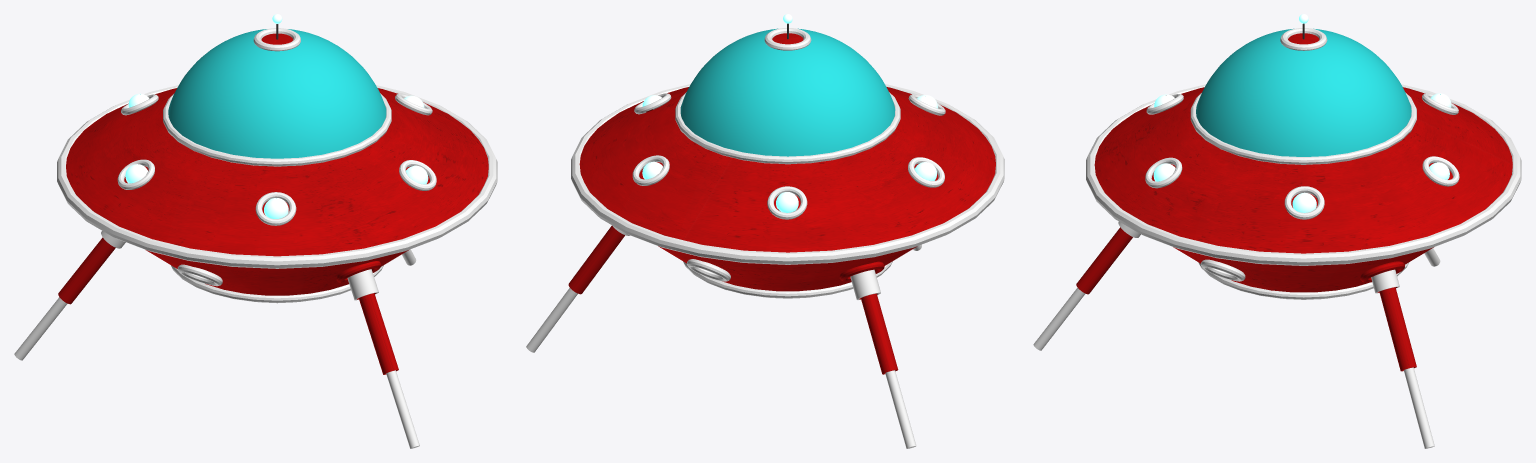
Rendered from small_spaceship.glb.
The picture shows the model from 3 angles, left to right: view 1: azimuth 30°, elevation 25°; view 2: azimuth 150°, elevation 25°; view 3: azimuth 270°, elevation 25°; orthographic projection.
Parts seen in each view (by area): view 1: Cone_0; view 2: Cone_0; view 3: Cone_0.
Part boxes in pixels (left/top/right/bottom): Cone_0: left=14, top=14, right=497, bottom=448; Cone_0: left=526, top=14, right=1004, bottom=448; Cone_0: left=1033, top=14, right=1521, bottom=448.
Bounding box in the file's own units: 4.63 × 3.86 × 4.98.
Materials: 6 (2 with a texture image).
